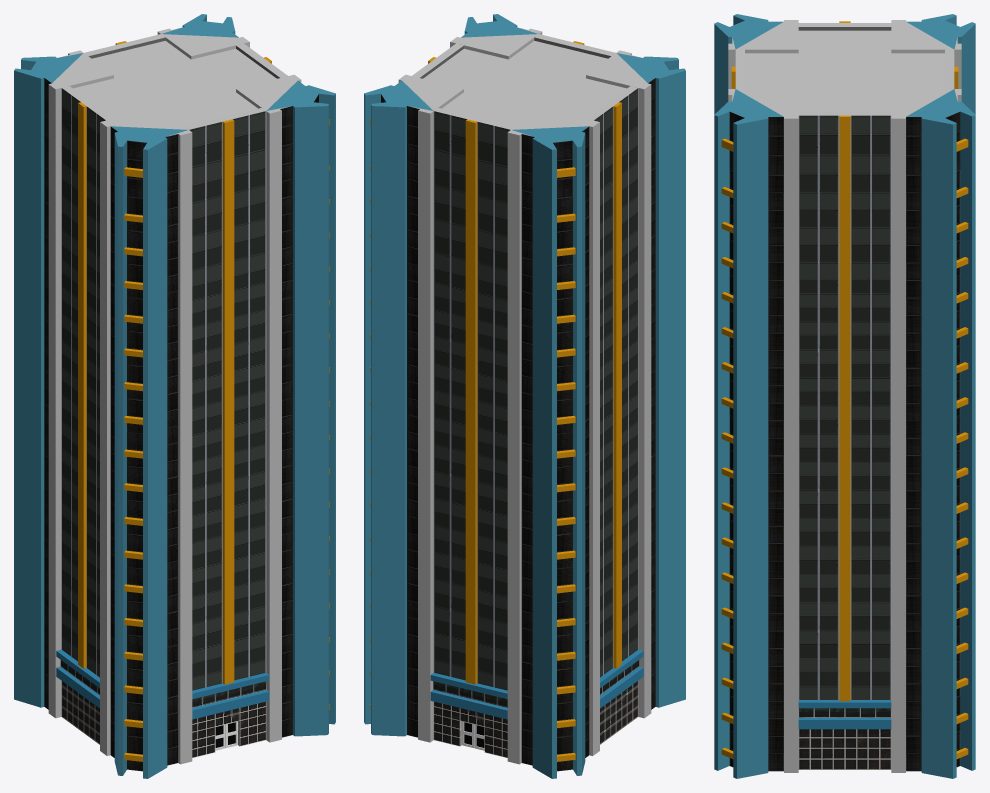
File: Tower-05.fbx
3 renders of one model, left to right at view 1: azimuth 30°, elevation 25°; view 2: azimuth 150°, elevation 25°; view 3: azimuth 270°, elevation 25°, orthographic. The views are drawn at different scales.
Visible parts, largest first — view 1: Building; view 2: Building; view 3: Building.
Part boxes in pixels (x1,y1,x2,y2): Building: [14, 14, 335, 778]; Building: [364, 14, 685, 778]; Building: [714, 14, 975, 778].
Size of what is drawn, in the model's own units: 20.29 by 56 by 20.29.
